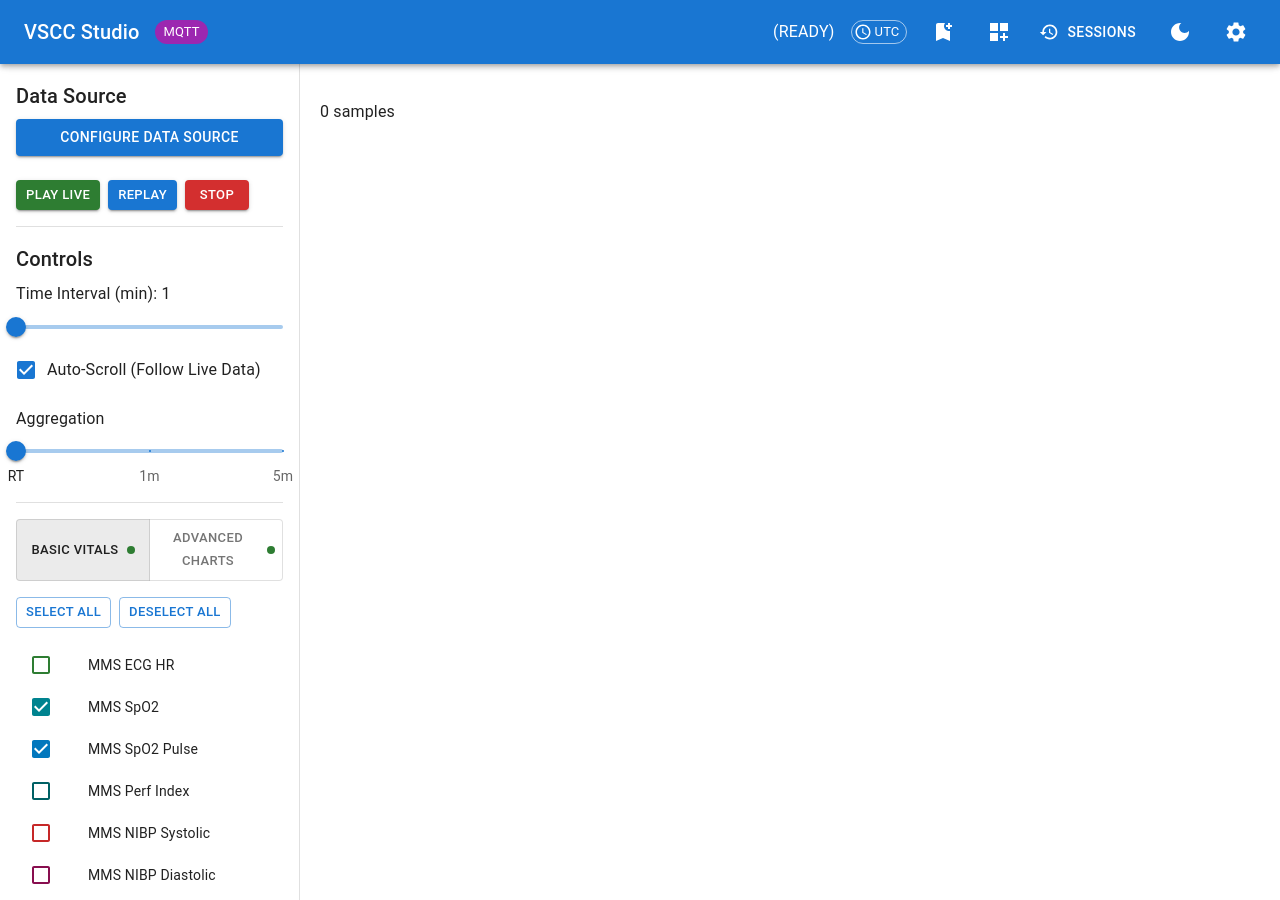
Test: add-on panel hook with a registered panel › keeps the panel when no series and no wave chart is selected (panels are not menu items)
Click the button "Deselect All". click: (175, 612)
box: [119, 597, 231, 628]
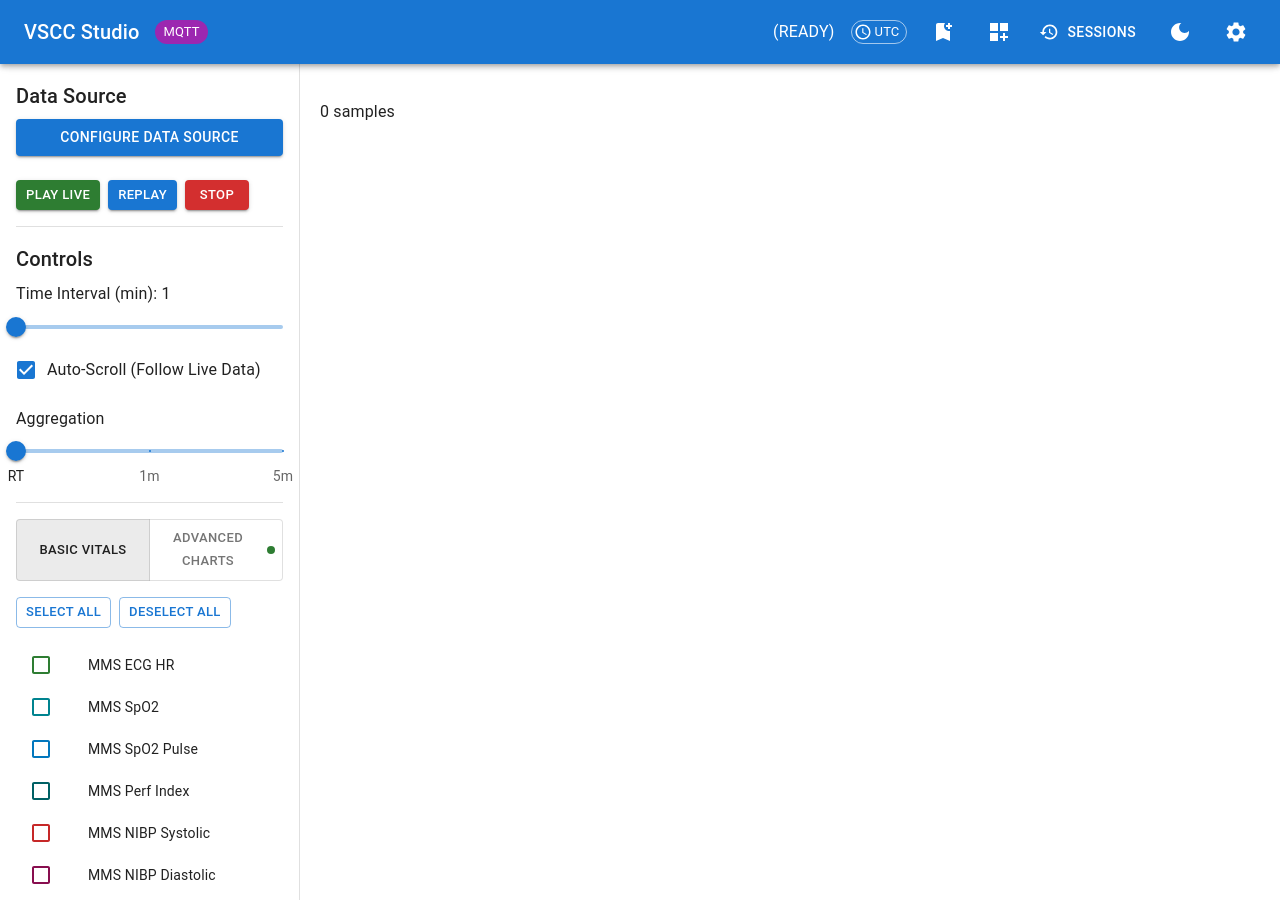
Click the button "Advanced Charts". click: (216, 550)
box: [149, 519, 283, 581]
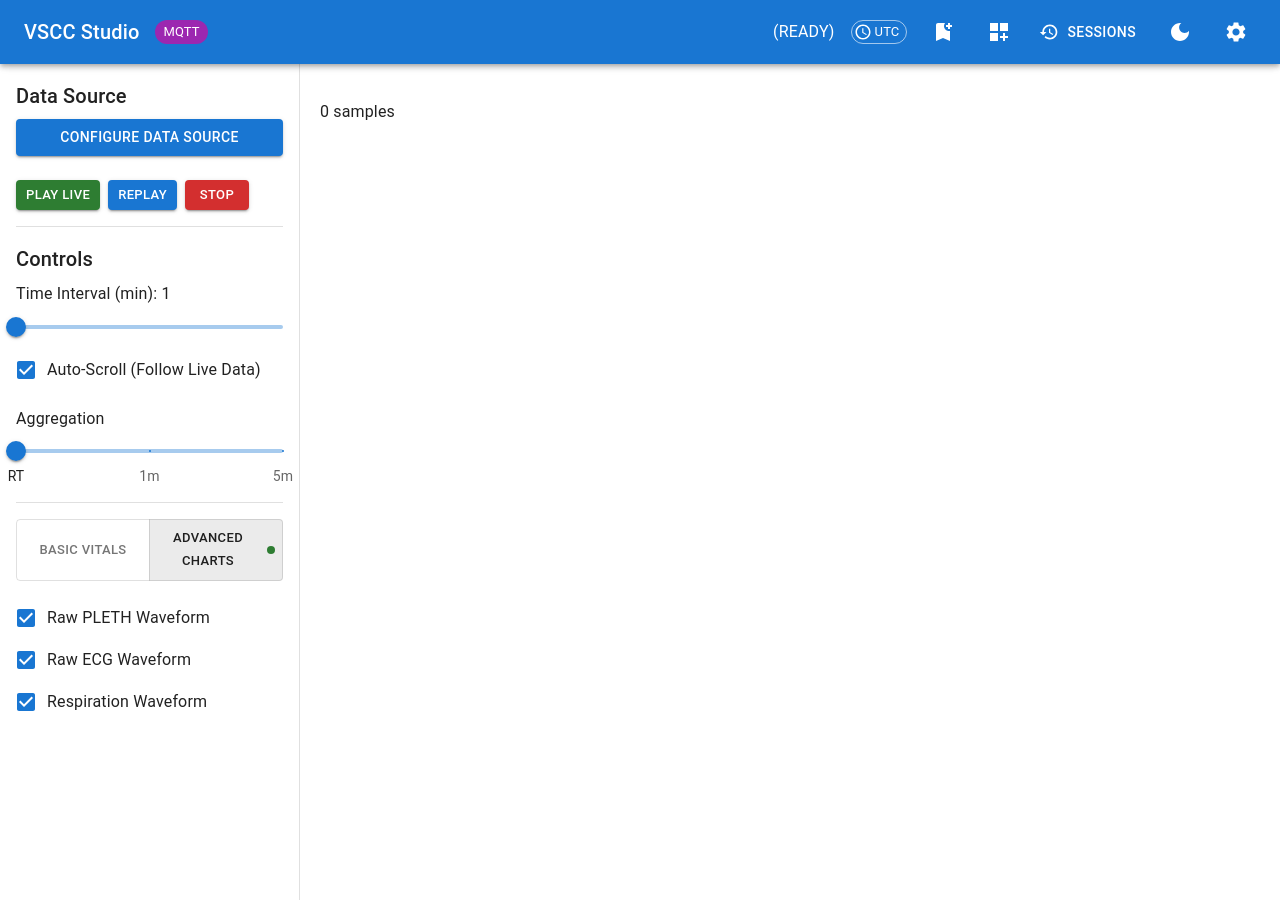
Click the checkbox labelled "Raw PLETH Waveform". click: (112, 618)
box: [14, 606, 210, 630]
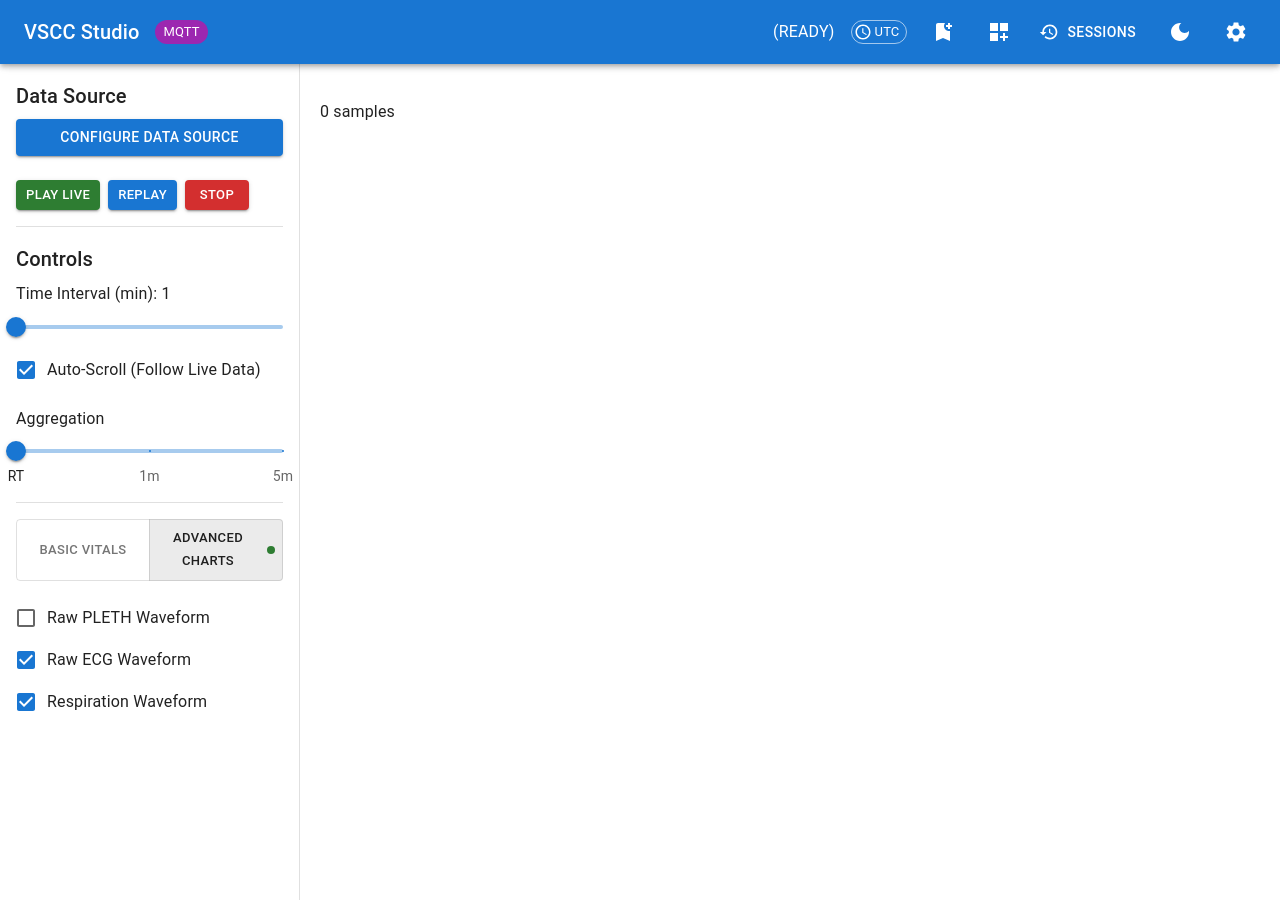
Click the checkbox labelled "Raw ECG Waveform". click: (103, 660)
box: [14, 648, 191, 672]
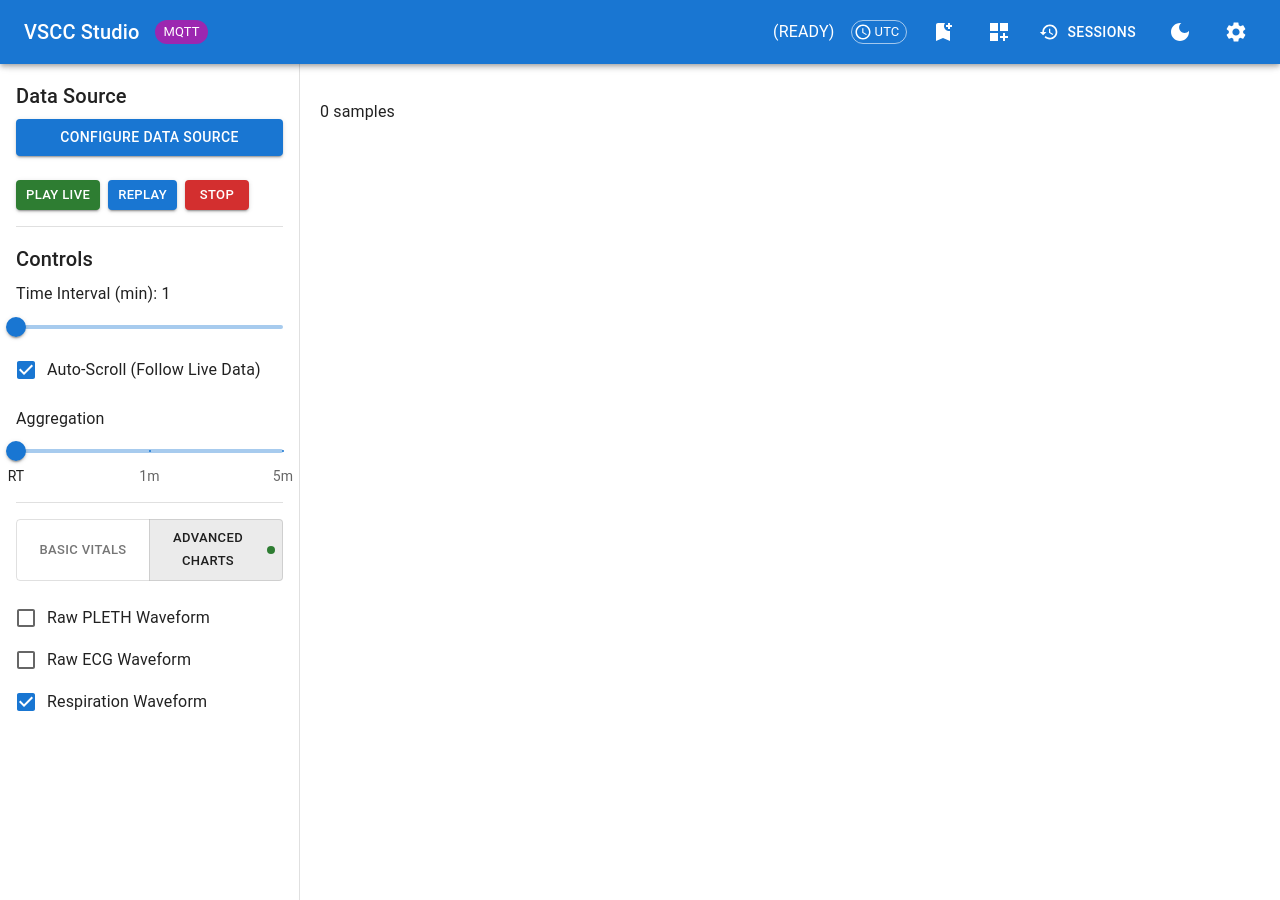
Click the checkbox labelled "Respiration Waveform". click: (111, 702)
box: [14, 690, 207, 714]
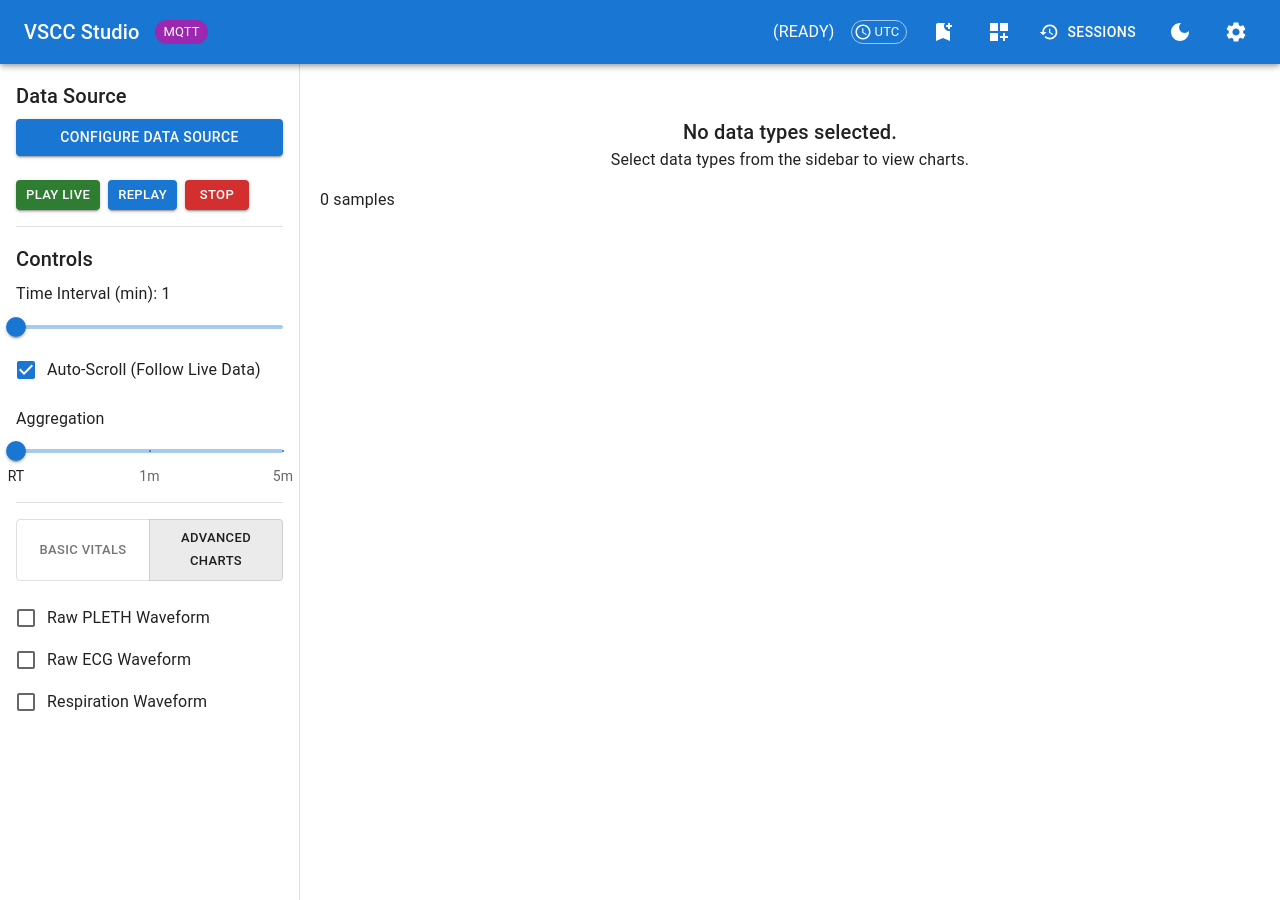
expect the element showing "0 samples" is shown: met, box [320, 190, 395, 209]
expect the heading "No data types selected." is shown: met, box [683, 120, 897, 144]
